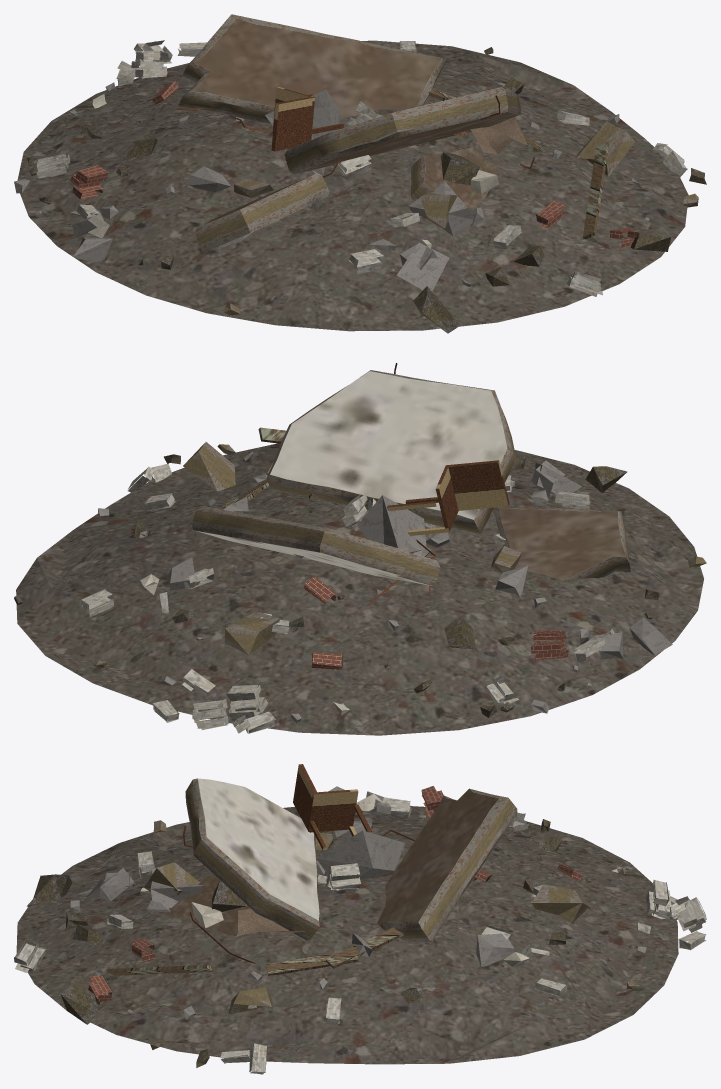
File: rubble_3.glb
The picture shows the model from 3 angles, top to bottom: view 1: azimuth 30°, elevation 25°; view 2: azimuth 150°, elevation 25°; view 3: azimuth 270°, elevation 25°; orthographic projection. The views are drawn at different scales.
Parts seen in each view (by area): view 1: rubble_3; view 2: rubble_3; view 3: rubble_3.
Part boxes in pixels (bbox=[...]): rubble_3: bbox=[14, 14, 706, 333]; rubble_3: bbox=[14, 363, 706, 735]; rubble_3: bbox=[14, 764, 706, 1074].
Bounding box in the file's own units: 5.68 × 1.47 × 6.21.
1 material, 1 textured.
